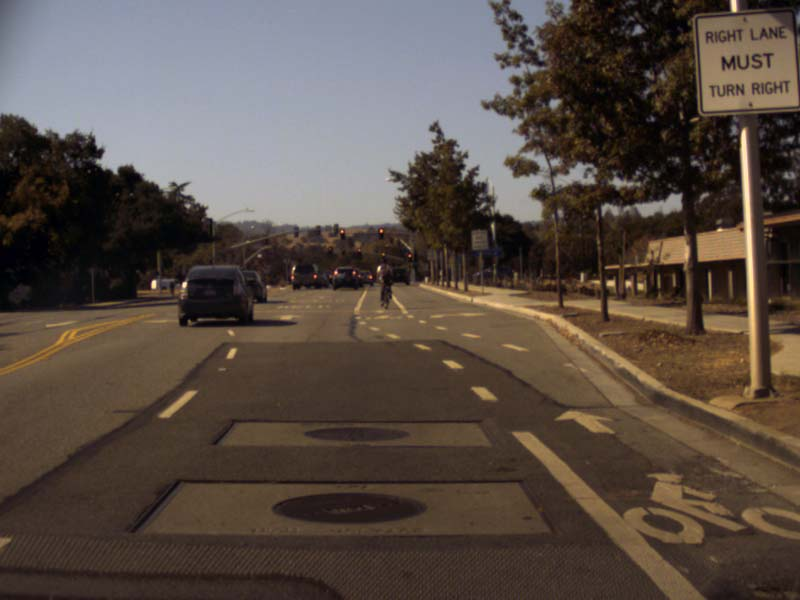Red: (339, 229, 345, 239), (378, 228, 383, 239), (327, 246, 331, 255), (407, 253, 412, 260), (341, 247, 345, 255), (356, 248, 362, 252)
Yellow: (381, 252, 386, 257)
